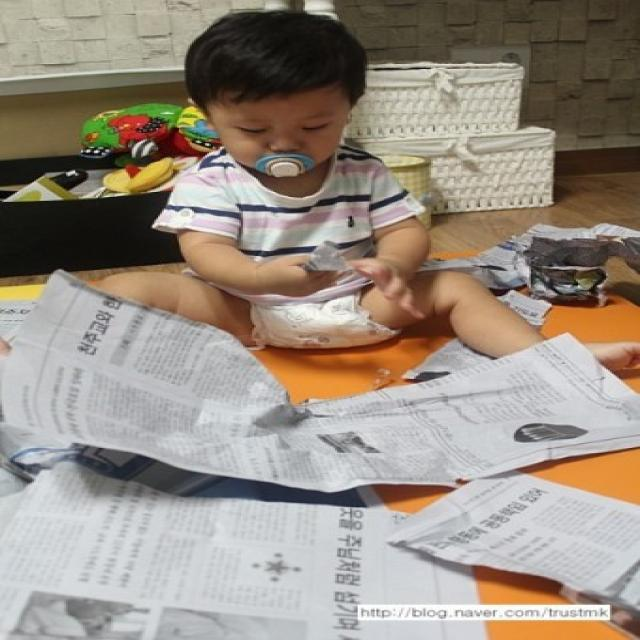Newspaper: (15, 277, 639, 492)
